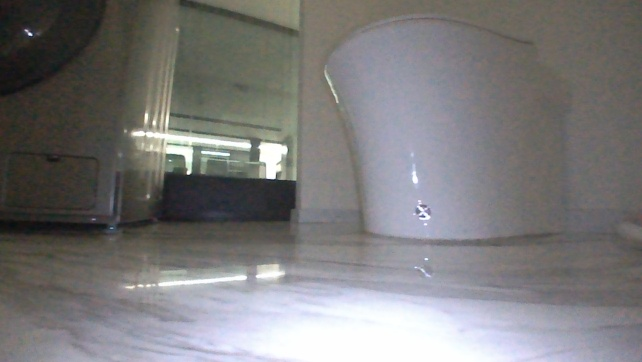toilet: (312, 13, 575, 243)
washing_machine1: (0, 3, 175, 233)
